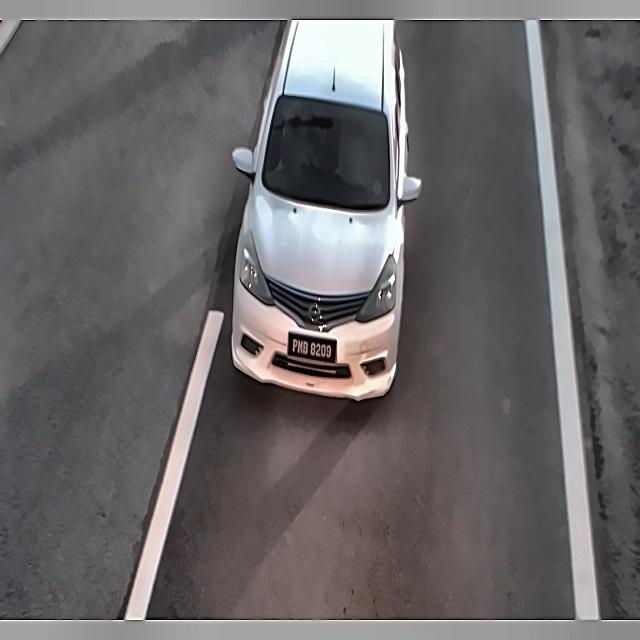car: (282, 325, 344, 371)
